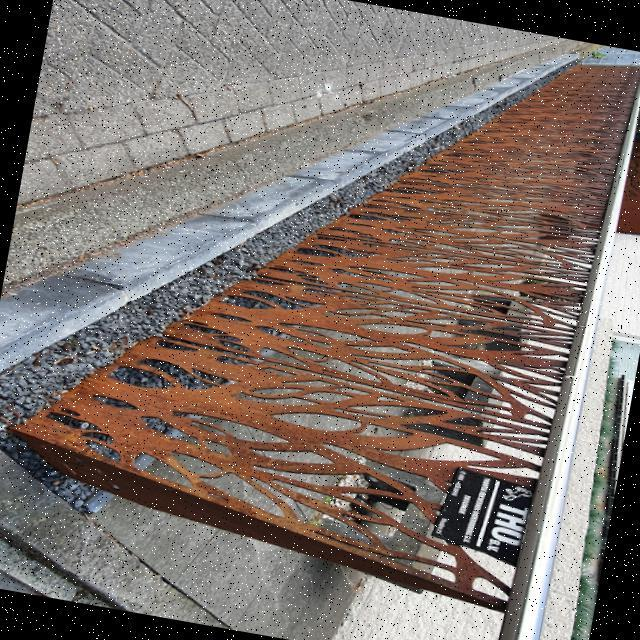fence line: (13, 182, 585, 589), (274, 17, 639, 337)
